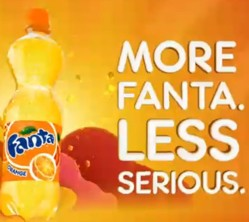Fanta: (1, 15, 75, 219)
